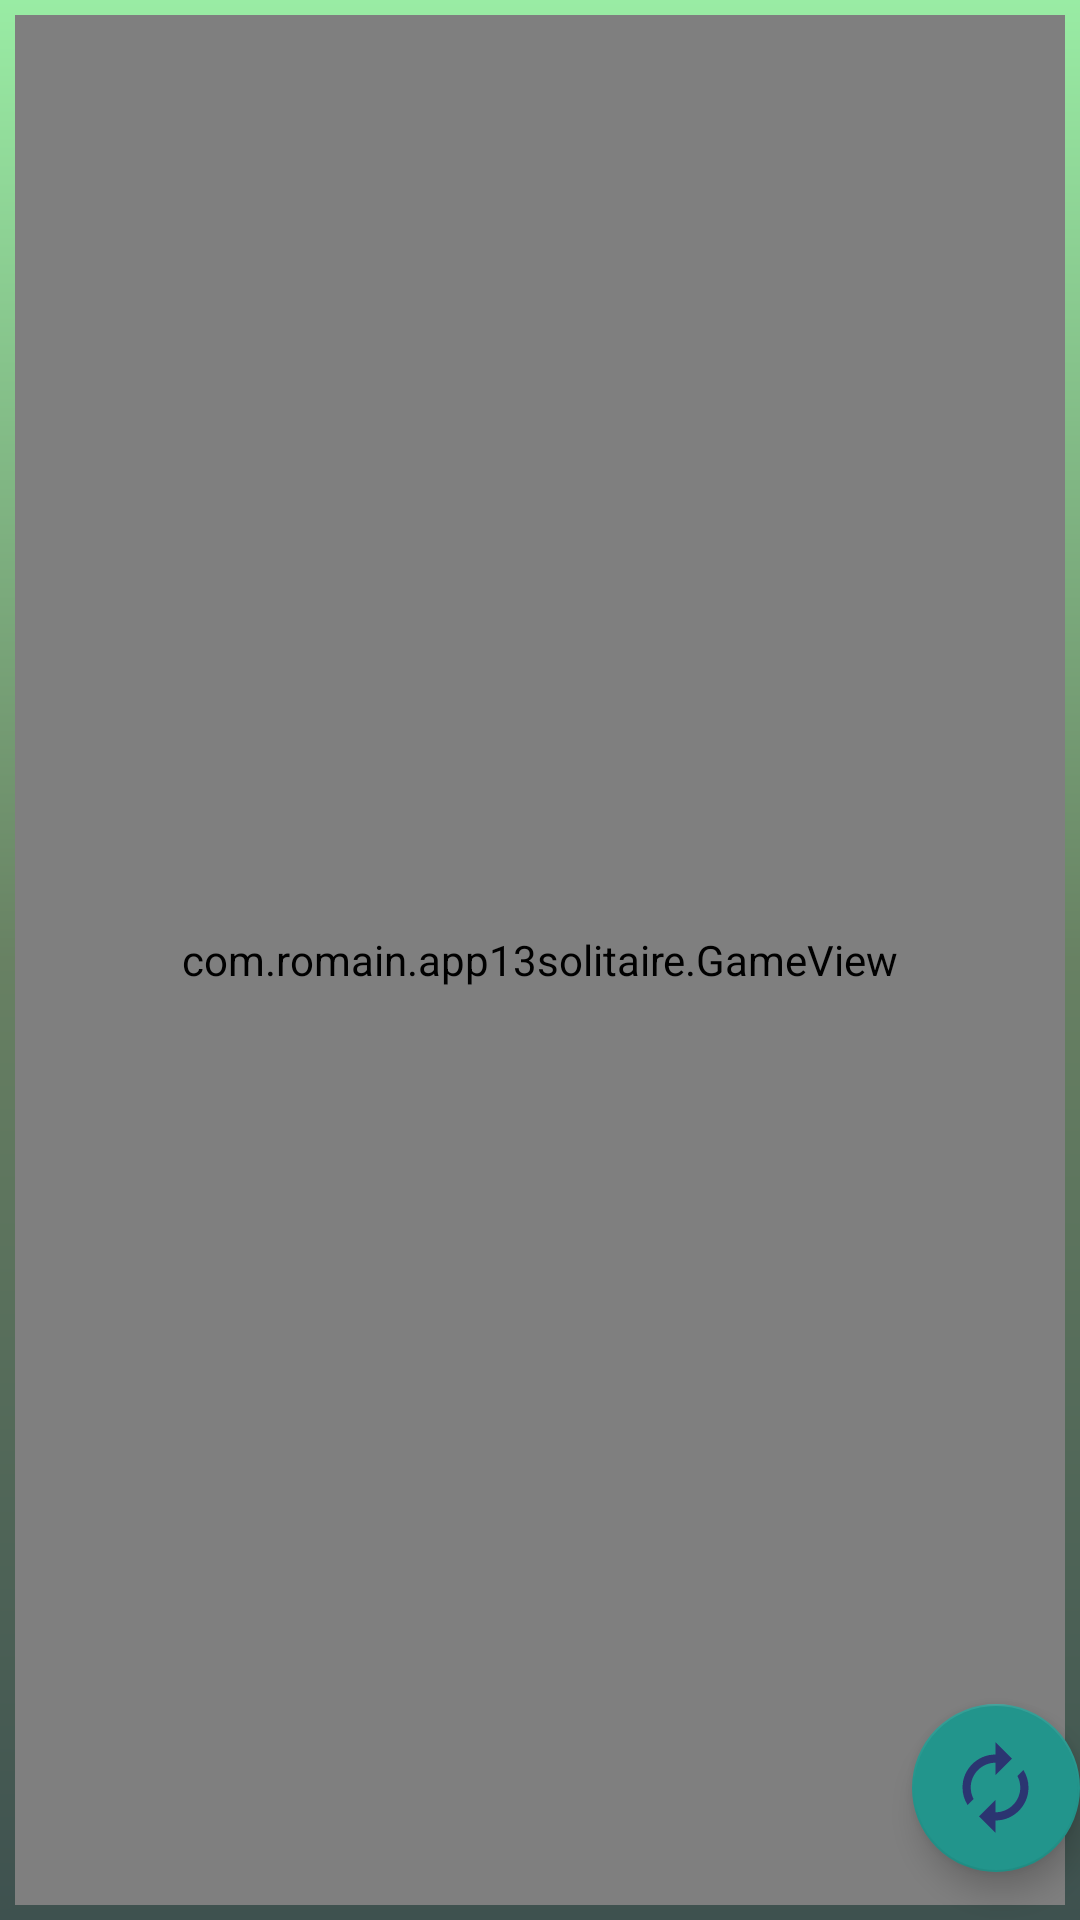

Locate icon controls on the screen. Image size 1080w x 1920h, boxes as (x1, y1, x2, y2).
autorenew: (912, 1704, 1080, 1872)
